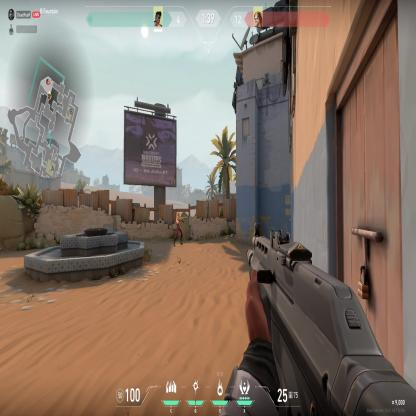enemy: (172, 209, 184, 248)
